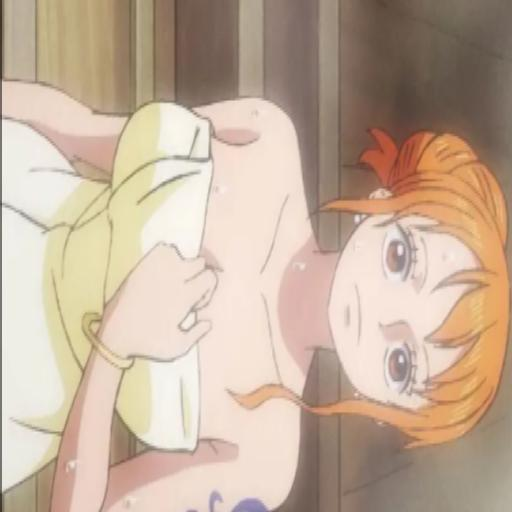Nami: (1, 3, 510, 512)
